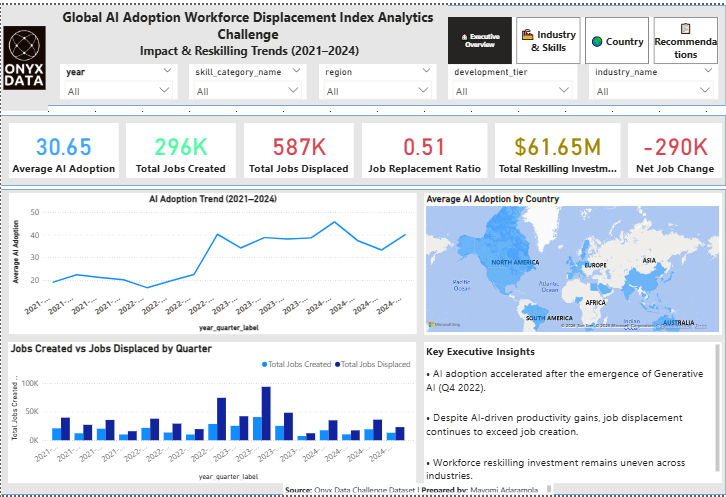

The page's visual inventory and layout, read from the dashboard file:
{"tool":"powerbi","page":{"name":"🏠 Executive Overview","canvas":[1480,1000],"ordinal":0},"visuals":[{"type":"textbox","box":[10,0,1438,206],"z":0},{"type":"shape","box":[0,0,1480,206],"z":1000},{"type":"shape","box":[-8,224,1488,144],"z":2000},{"type":"shape","box":[-8,376,1488,624],"z":3000},{"type":"image","box":[0,0,96,216],"z":4000},{"type":"textbox","box":[96,0,816,120],"z":5000},{"type":"card","fields":{"Values":["Measures (2).Average AI Adoption"]},"box":[16,240,224,112],"z":6000},{"type":"card","fields":{"Values":["Measures (2).Total Jobs Created"]},"box":[256,240,224,112],"z":7000},{"type":"card","fields":{"Values":["Measures (2).Total Jobs Displaced"]},"box":[496,240,224,112],"z":8000},{"type":"card","fields":{"Values":["Measures (2).Job Replacement Ratio"]},"box":[736,240,256,112],"z":9000},{"type":"card","fields":{"Values":["Measures (2).Total Reskilling Investment"]},"box":[1008,240,256,112],"z":10000},{"type":"card","fields":{"Values":["Measures (2).Net Job Change"]},"box":[1280,240,192,112],"z":11000},{"type":"lineChart","title":"AI Adoption Trend (2021–2024)","fields":{"Y":["Measures (2).Average AI Adoption"],"Category":["dim_date.year_quarter_label"]},"box":[16,384,832,288],"z":12000},{"type":"clusteredColumnChart","title":"Jobs Created vs Jobs Displaced by Quarter","fields":{"Category":["dim_date.year_quarter_label"],"Y":["Measures (2).Total Jobs Created","Measures (2).Total Jobs Displaced"]},"box":[15,687.5,832.5,287.5],"z":13000},{"type":"filledMap","title":"Average AI Adoption by Country","fields":{"Category":["dim_country.country_name"]},"box":[864,384,608,288],"z":14000},{"type":"slicer","fields":{"Values":["dim_date.year"]},"box":[120,120,240,72],"z":15000},{"type":"slicer","fields":{"Values":["dim_country.region"]},"box":[648,120,240,72],"z":16000},{"type":"slicer","fields":{"Values":["dim_country.development_tier"]},"box":[912,120,264,72],"z":17000},{"type":"slicer","fields":{"Values":["dim_skill_category.skill_category_name"]},"box":[384,120,240,72],"z":18000},{"type":"slicer","fields":{"Values":["dim_industry.industry_name"]},"box":[1200,120,264,72],"z":19000},{"type":"textbox","box":[864,688,608,288],"z":20000},{"type":"textbox","box":[576,976,552,24],"z":21000},{"type":"pageNavigator","box":[912,24,552,96],"z":22000}]}

Visuals, with their boxes in screenshot pixels (x1, y1, x2, y2), scaled from the page's 1480x1000 canvas onto the 726x497 screenshot:
textbox: (left=5, top=0, right=710, bottom=102)
shape: (left=0, top=0, right=725, bottom=102)
shape: (left=0, top=111, right=725, bottom=183)
shape: (left=0, top=187, right=725, bottom=496)
image: (left=0, top=0, right=47, bottom=107)
textbox: (left=47, top=0, right=447, bottom=60)
card - Measures (2).Average AI Adoption: (left=8, top=119, right=118, bottom=175)
card - Measures (2).Total Jobs Created: (left=126, top=119, right=235, bottom=175)
card - Measures (2).Total Jobs Displaced: (left=243, top=119, right=353, bottom=175)
card - Measures (2).Job Replacement Ratio: (left=361, top=119, right=487, bottom=175)
card - Measures (2).Total Reskilling Investment: (left=494, top=119, right=620, bottom=175)
card - Measures (2).Net Job Change: (left=628, top=119, right=722, bottom=175)
"AI Adoption Trend (2021–2024)" lineChart: (left=8, top=191, right=416, bottom=334)
"Jobs Created vs Jobs Displaced by Quarter" clusteredColumnChart: (left=7, top=342, right=416, bottom=485)
"Average AI Adoption by Country" filledMap: (left=424, top=191, right=722, bottom=334)
slicer - dim_date.year: (left=59, top=60, right=177, bottom=95)
slicer - dim_country.region: (left=318, top=60, right=436, bottom=95)
slicer - dim_country.development_tier: (left=447, top=60, right=577, bottom=95)
slicer - dim_skill_category.skill_category_name: (left=188, top=60, right=306, bottom=95)
slicer - dim_industry.industry_name: (left=589, top=60, right=718, bottom=95)
textbox: (left=424, top=342, right=722, bottom=485)
textbox: (left=283, top=485, right=553, bottom=496)
pageNavigator: (left=447, top=12, right=718, bottom=60)
